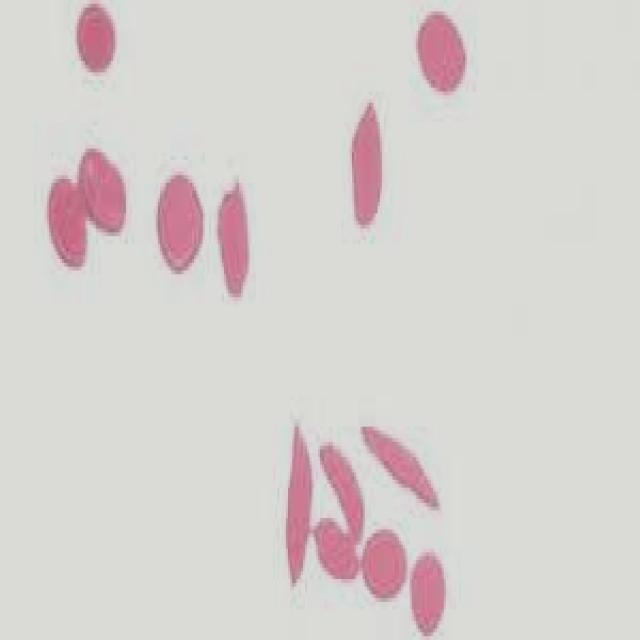RBC: (152, 168, 211, 282), (358, 522, 414, 606)
sickle cell: (354, 408, 448, 518), (277, 412, 316, 594), (314, 430, 373, 545)
